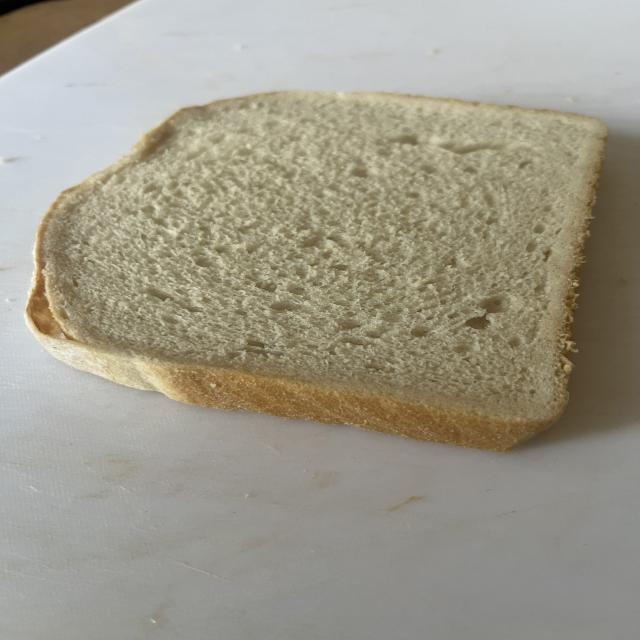sliced_bread: (29, 93, 607, 450)
